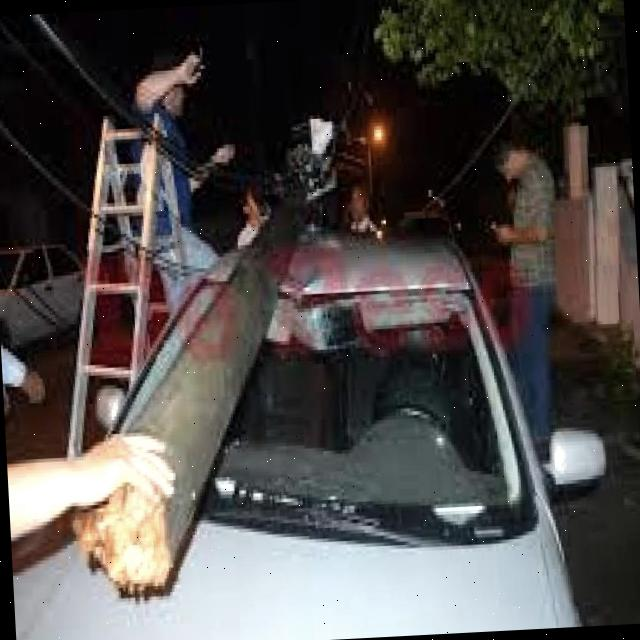Broken Pole: (82, 193, 309, 599)
